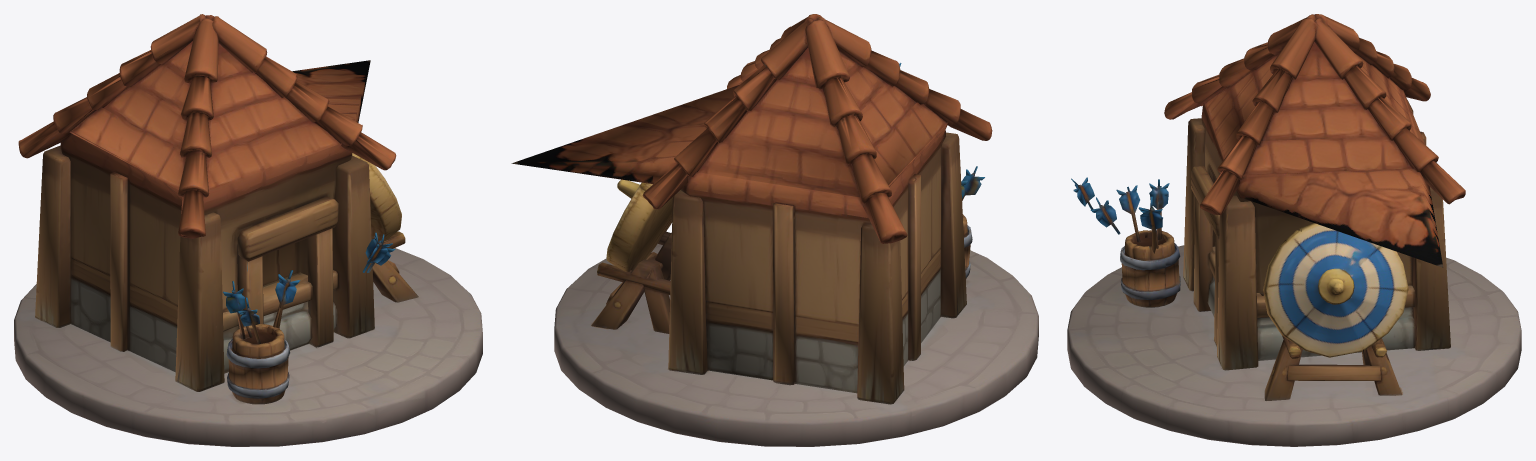
File: outpost_range_tripo.glb
The picture shows the model from 3 angles, left to right: view 1: azimuth 30°, elevation 25°; view 2: azimuth 150°, elevation 25°; view 3: azimuth 270°, elevation 25°; orthographic projection. The views are drawn at different scales.
Parts seen in each view (by area): view 1: tripo_node_5bea6144-e51c-4ad6-b8a2-3ed19e7fe78c; view 2: tripo_node_5bea6144-e51c-4ad6-b8a2-3ed19e7fe78c; view 3: tripo_node_5bea6144-e51c-4ad6-b8a2-3ed19e7fe78c.
Part boxes in pixels (x1,y1,x2,y2): tripo_node_5bea6144-e51c-4ad6-b8a2-3ed19e7fe78c: (14, 14, 482, 446); tripo_node_5bea6144-e51c-4ad6-b8a2-3ed19e7fe78c: (511, 14, 1038, 446); tripo_node_5bea6144-e51c-4ad6-b8a2-3ed19e7fe78c: (1067, 14, 1521, 446).
Bounding box in the file's own units: 0.998 × 0.7793 × 0.998.
Materials: 1 (1 with a texture image).
